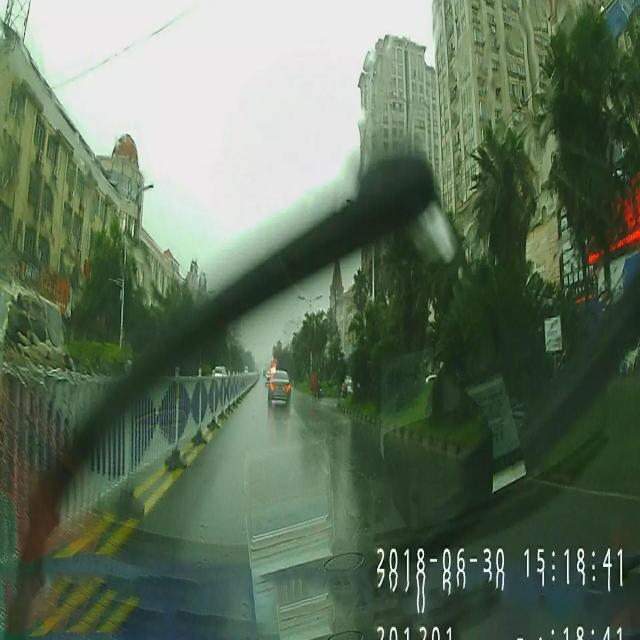car: (0, 276, 65, 414), (268, 368, 290, 405), (212, 363, 226, 382), (264, 370, 275, 386)
